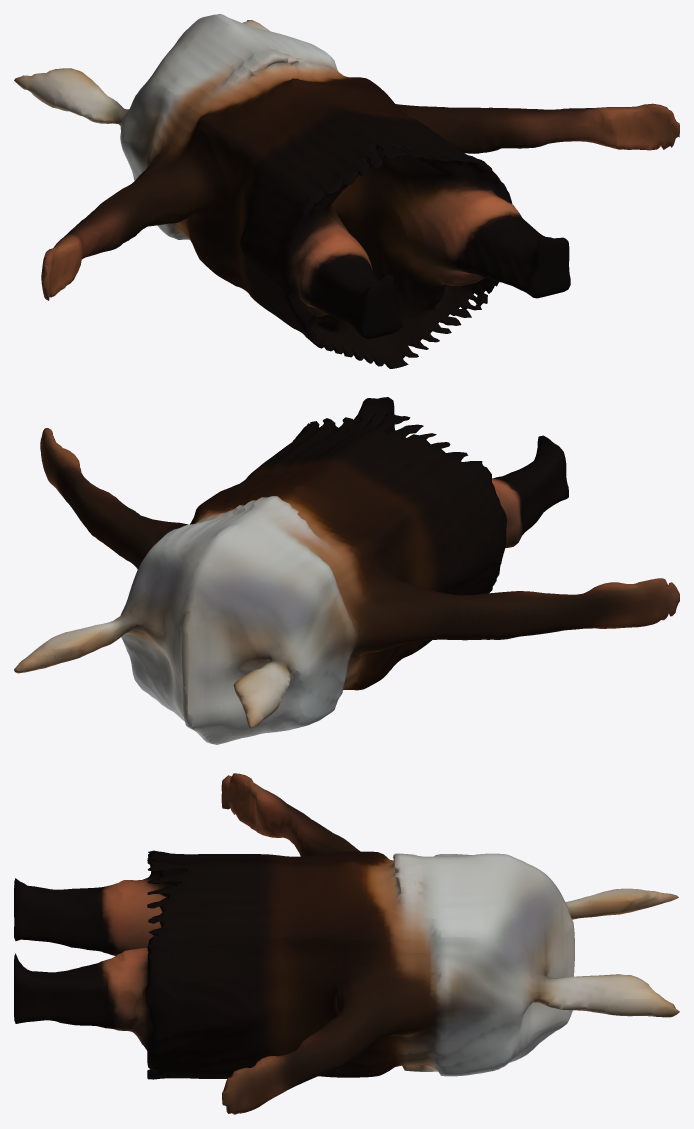
File: low_poly_viking.FBX
3 views of the same model, one above another, from view 1: azimuth 30°, elevation 25°; view 2: azimuth 150°, elevation 25°; view 3: azimuth 270°, elevation 25° (orthographic).
Parts seen in each view (by area): view 1: plyFile; view 2: plyFile; view 3: plyFile.
Boxes of the visible parts, bbox=[...] form: plyFile: bbox=[14, 14, 679, 368]; plyFile: bbox=[14, 397, 679, 744]; plyFile: bbox=[14, 773, 679, 1114].
Size of the model in its own units: 197 by 66.33 by 180.
